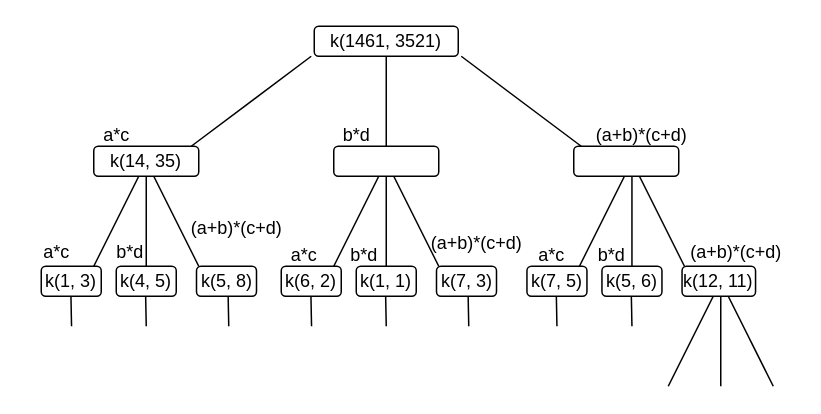
Some shapes in this 821 by 414 pixel diagram are drawn without their labels. Here are the shapes that lost their labels. From the top down, the centre of each, then its label:
At (x=385, y=160): "k(61, 21)".
At (x=625, y=160): "k(75, 56)".
